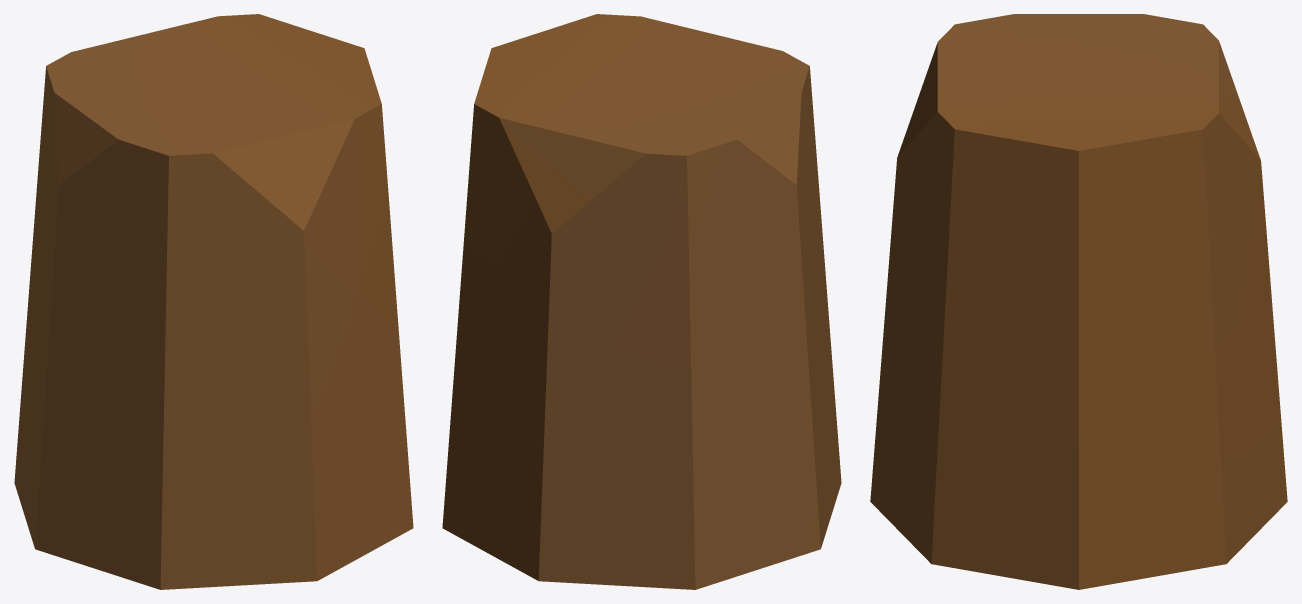
Rendered from stump.fbx.
3 views of the same model, side by side, from view 1: azimuth 30°, elevation 25°; view 2: azimuth 150°, elevation 25°; view 3: azimuth 270°, elevation 25° (orthographic).
Visible parts, largest first — view 1: stump; view 2: stump; view 3: stump.
Part boxes in pixels (x1,y1,x2,y2): stump: (14,14,413,589); stump: (442,14,841,589); stump: (870,14,1287,589).
Size of the model in its own units: 84.2 by 94.6 by 84.2.
